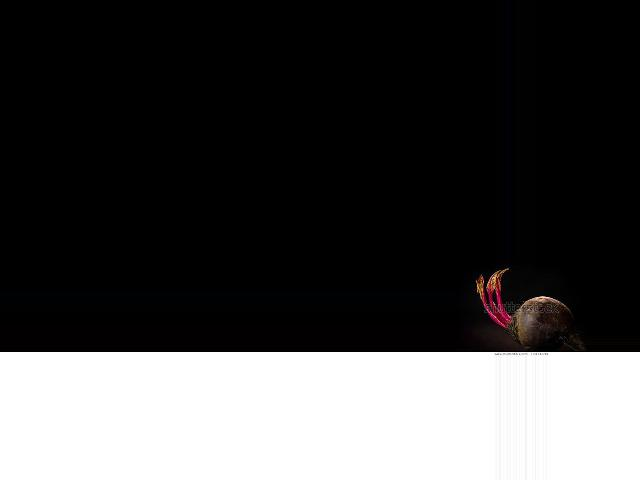beet: (476, 268, 588, 351)
